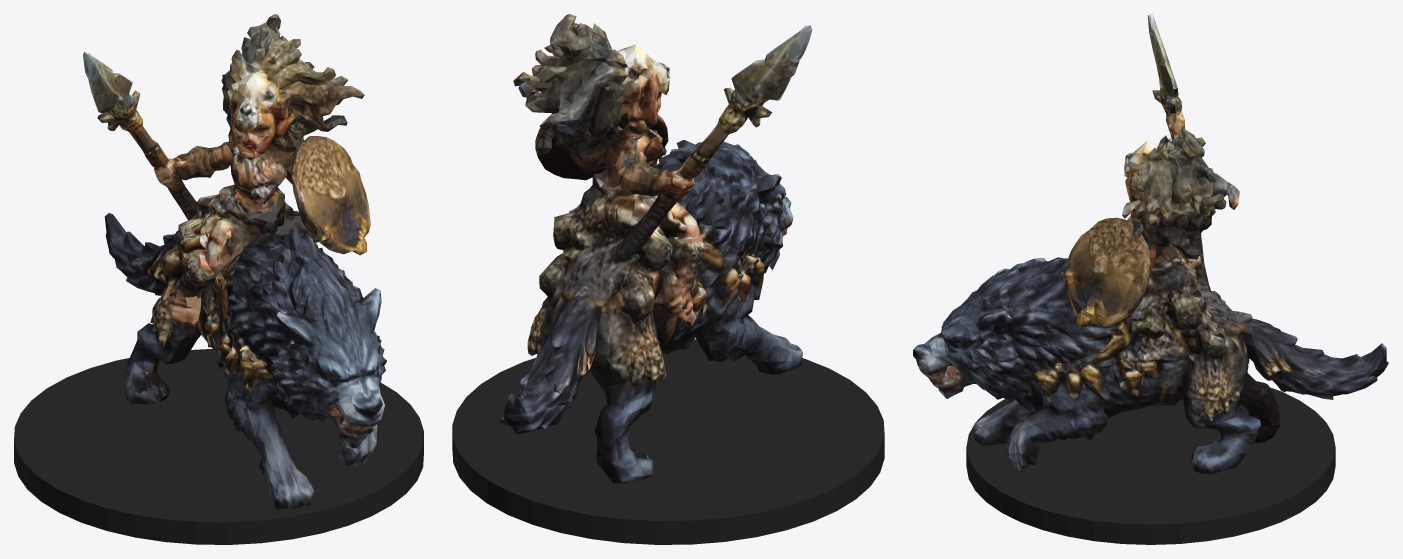
File: wm-wolf-rider.glb
3 views of the same model, side by side, from view 1: azimuth 30°, elevation 25°; view 2: azimuth 150°, elevation 25°; view 3: azimuth 270°, elevation 25° (orthographic). The views are drawn at different scales.
Parts seen in each view (by area): view 1: figure, base; view 2: figure, base; view 3: figure, base.
Part boxes in pixels (left/top/right/bottom): figure: left=83, top=14, right=386, bottom=509; base: left=14, top=349, right=423, bottom=544; figure: left=500, top=14, right=812, bottom=483; base: left=452, top=339, right=884, bottom=544; figure: left=913, top=14, right=1388, bottom=473; base: left=966, top=387, right=1335, bottom=544.
Size of the model in its own units: 1.97 by 2.32 by 2.54.
Materials: 2 (1 with a texture image).
